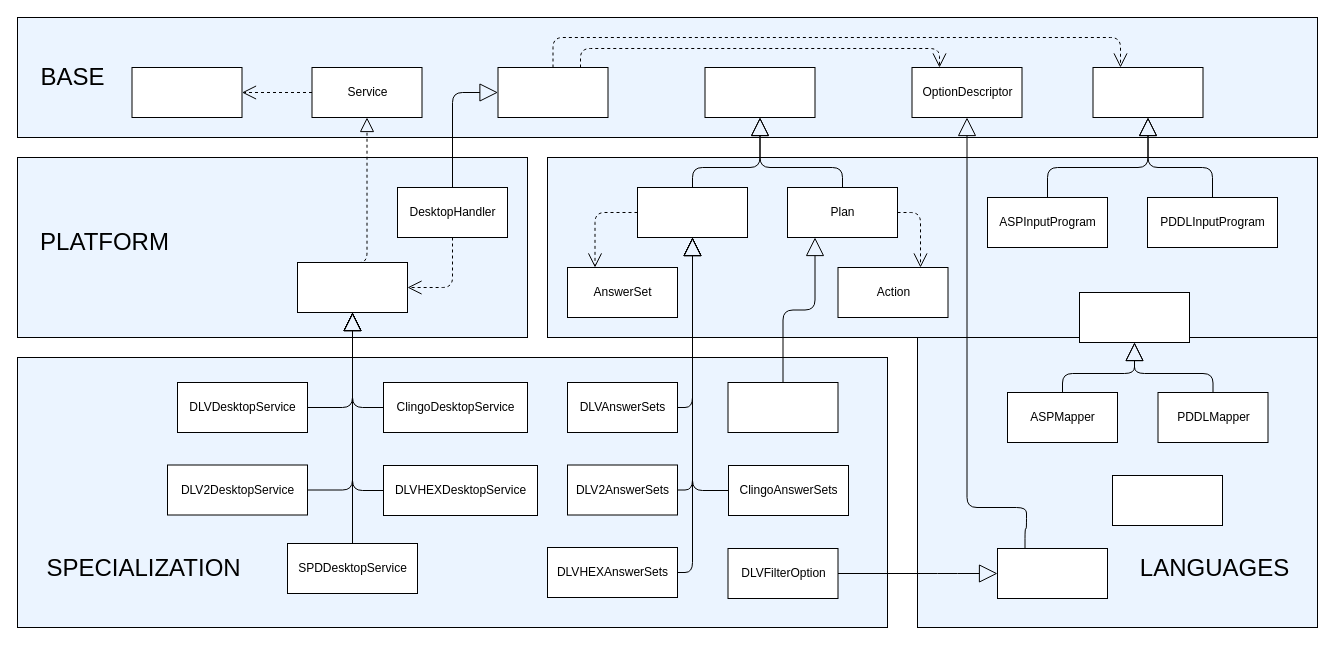
Some shapes in this 1335 by 645 pixel diagram are drawn without their labels. Here are the shapes that lost their labels. From the top down, the centre of each, then its label:
At [186,92]: "Callback".
At [552,92]: "Handler".
At [759,92]: "Output".
At [1147,92]: "InputProgram".
At [692,212]: "AnswerSets".
At [352,287]: "DesktopService".
At [1134,317]: "Mapper".
At [782,407]: "SPDPlan".
At [1167,500]: "Predicate".
At [1052,573]: "ASPFilterOption".
